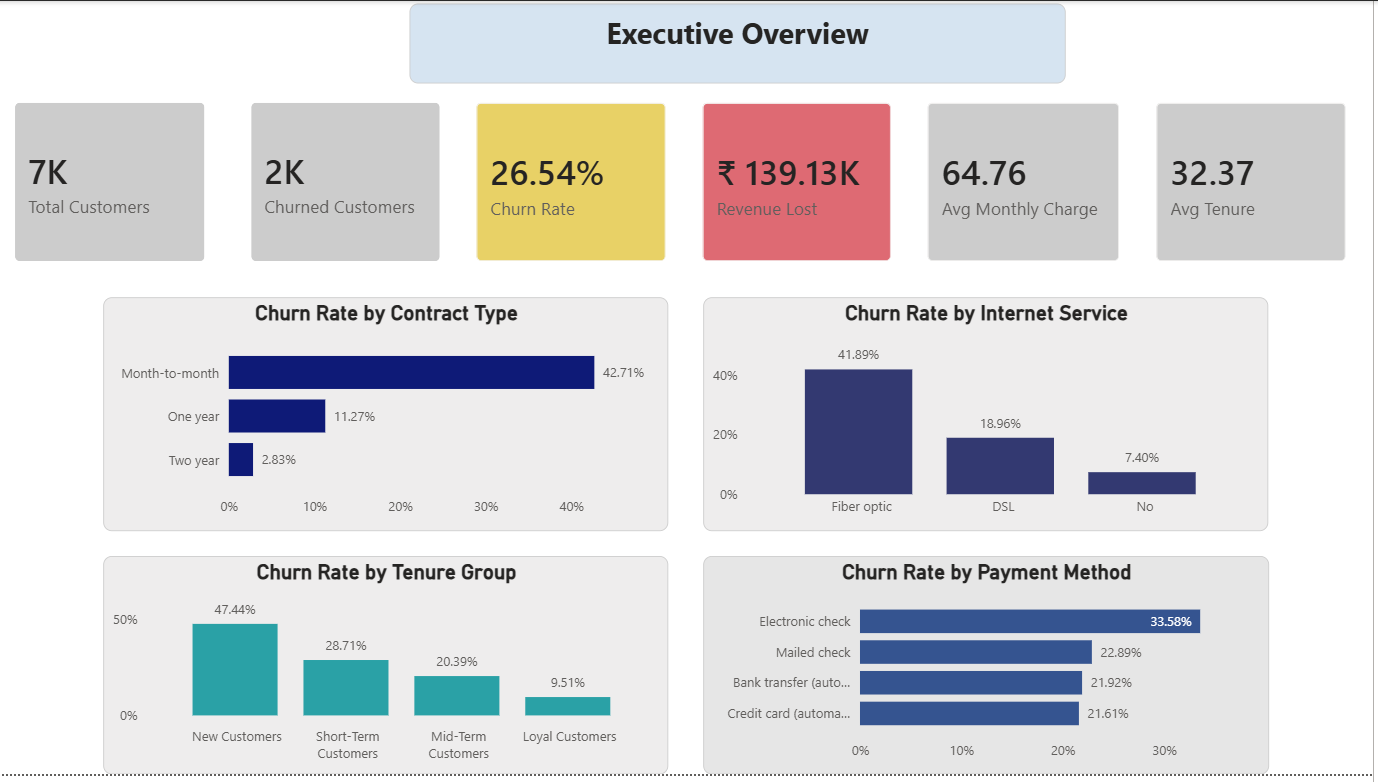

Layout of this report page (visuals, bound fields, positions):
{"tool":"powerbi","page":{"name":"Executive Overview","canvas":[1280,720],"ordinal":0},"visuals":[{"type":"cardVisual","fields":{"Data":["Telco_Customer_Churn_Cleaned.Total Customers"]},"box":[0,77.9,210.5,181.4],"z":0},{"type":"cardVisual","fields":{"Data":["Telco_Customer_Churn_Cleaned.Churned Customers"]},"box":[219.8,77.7,209.3,181.4],"z":1000},{"type":"cardVisual","fields":{"Data":["Telco_Customer_Churn_Cleaned.Churn Rate %"]},"box":[429.1,77.7,210.5,181.4],"z":2000},{"type":"cardVisual","fields":{"Data":["Telco_Customer_Churn_Cleaned.Monthly Revenue Lost"]},"box":[639.5,77.7,209.3,181.4],"z":3000},{"type":"cardVisual","fields":{"Data":["Telco_Customer_Churn_Cleaned.Avg Monthly Charge"]},"box":[848.8,77.7,212.8,181.4],"z":4000},{"type":"cardVisual","fields":{"Data":["Telco_Customer_Churn_Cleaned.Avg Tenure"]},"box":[1061.6,77.9,210.5,181.4],"z":5000},{"type":"textbox","box":[383.7,2.2,610.5,74.4],"z":6000},{"type":"clusteredBarChart","title":"Churn Rate by Contract Type","fields":{"Category":["Telco_Customer_Churn_Cleaned.Contract"],"Y":["Telco_Customer_Churn_Cleaned.Contract Churn Rate %"]},"box":[98.8,275.6,525.6,217.4],"z":7000},{"type":"clusteredColumnChart","title":"Churn Rate by Internet Service","fields":{"Category":["Telco_Customer_Churn_Cleaned.InternetService"],"Y":["Telco_Customer_Churn_Cleaned.Internet Service Churn Rate %"]},"box":[657,275.6,525.6,217.4],"z":8000},{"type":"clusteredColumnChart","title":"Churn Rate  by Tenure Group","fields":{"Category":["Telco_Customer_Churn_Cleaned.Tenure Group"],"Y":["Telco_Customer_Churn_Cleaned.Tenure Churn Rate %"]},"box":[98.8,516.3,525.6,203.5],"z":9000},{"type":"clusteredBarChart","title":"Churn Rate by Payment Method","fields":{"Y":["CountNonNull(Telco_Customer_Churn_Cleaned.PaymentMethod)"],"Category":["Telco_Customer_Churn_Cleaned.PaymentMethod"]},"box":[657,516,526,203],"z":10000}]}

Visuals, with their boxes in screenshot pixels (x1, y1, x2, y2), scaled from the page's 1280x720 canvas onto the 1378x782 screenshot:
cardVisual - Telco_Customer_Churn_Cleaned.Total Customers: pyautogui.locateOnScreen(0, 85, 227, 282)
cardVisual - Telco_Customer_Churn_Cleaned.Churned Customers: pyautogui.locateOnScreen(237, 84, 462, 281)
cardVisual - Telco_Customer_Churn_Cleaned.Churn Rate %: pyautogui.locateOnScreen(462, 84, 689, 281)
cardVisual - Telco_Customer_Churn_Cleaned.Monthly Revenue Lost: pyautogui.locateOnScreen(688, 84, 914, 281)
cardVisual - Telco_Customer_Churn_Cleaned.Avg Monthly Charge: pyautogui.locateOnScreen(914, 84, 1143, 281)
cardVisual - Telco_Customer_Churn_Cleaned.Avg Tenure: pyautogui.locateOnScreen(1143, 85, 1369, 282)
textbox: pyautogui.locateOnScreen(413, 2, 1070, 83)
"Churn Rate by Contract Type" clusteredBarChart: pyautogui.locateOnScreen(106, 299, 672, 535)
"Churn Rate by Internet Service" clusteredColumnChart: pyautogui.locateOnScreen(707, 299, 1273, 535)
"Churn Rate  by Tenure Group" clusteredColumnChart: pyautogui.locateOnScreen(106, 561, 672, 781)
"Churn Rate by Payment Method" clusteredBarChart: pyautogui.locateOnScreen(707, 560, 1274, 781)
